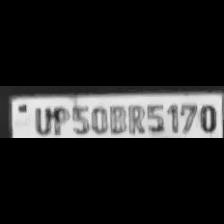0: (196, 102, 218, 132), (90, 102, 108, 134)
1: (164, 100, 180, 134)
5: (68, 103, 90, 135), (144, 102, 166, 132)
7: (175, 100, 195, 134)
B: (108, 102, 127, 132)
P: (46, 104, 66, 136)
R: (125, 102, 144, 134)
U: (32, 104, 52, 136)
